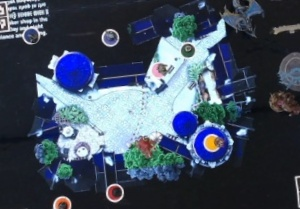blue: (17, 24, 42, 46)
green: (176, 40, 195, 60)
orange: (50, 191, 75, 209)
pink: (149, 59, 168, 81)
red: (100, 180, 126, 203)
violet: (96, 22, 124, 51)
yellow: (202, 129, 223, 153)
